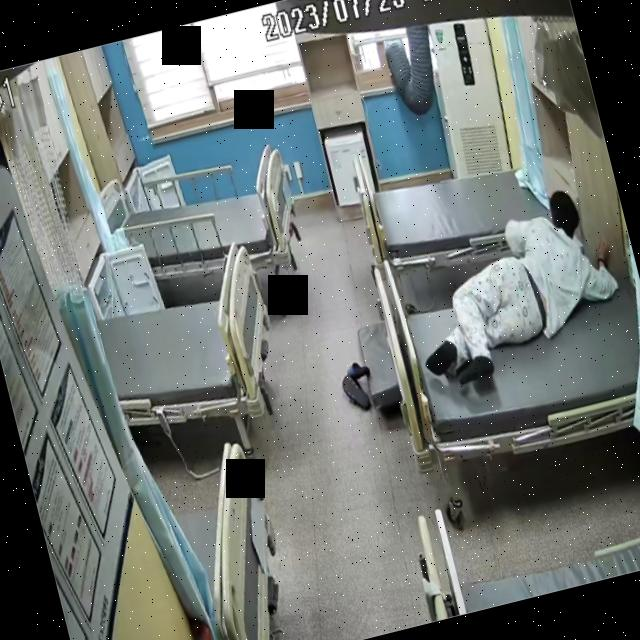bed: (364, 201, 640, 479), (345, 98, 563, 294), (90, 242, 290, 442), (114, 148, 306, 300)
danger: (392, 181, 633, 394)
patient: (393, 184, 634, 399)
